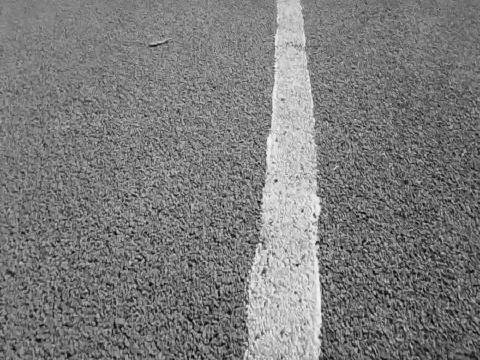Lines: (242, 0, 320, 360)
